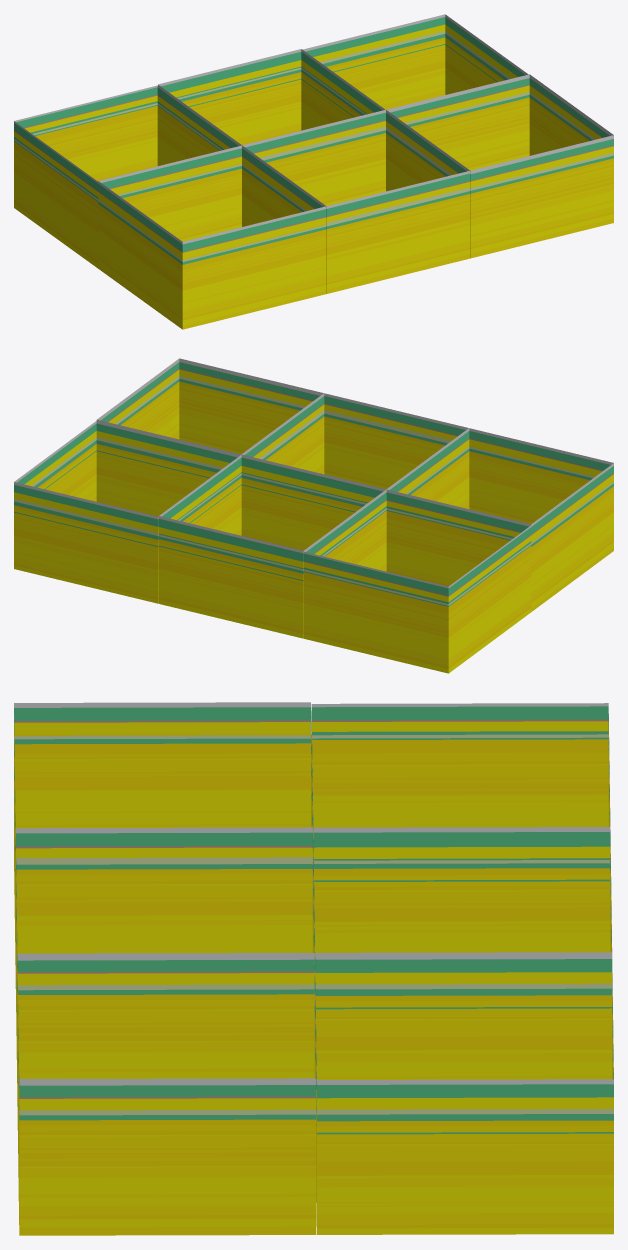
3 views of the same model, one above another, from view 1: azimuth 30°, elevation 25°; view 2: azimuth 150°, elevation 25°; view 3: azimuth 270°, elevation 25° (orthographic). The views are drawn at different scales.
Visible parts, largest first — view 1: mesh; view 2: mesh; view 3: mesh.
Part boxes in pixels (bbox=[...]): mesh: bbox=[14, 14, 613, 329]; mesh: bbox=[14, 358, 613, 673]; mesh: bbox=[14, 702, 613, 1235].
Size of what is drawn, in the model's own units: 491 by 95 by 330.
